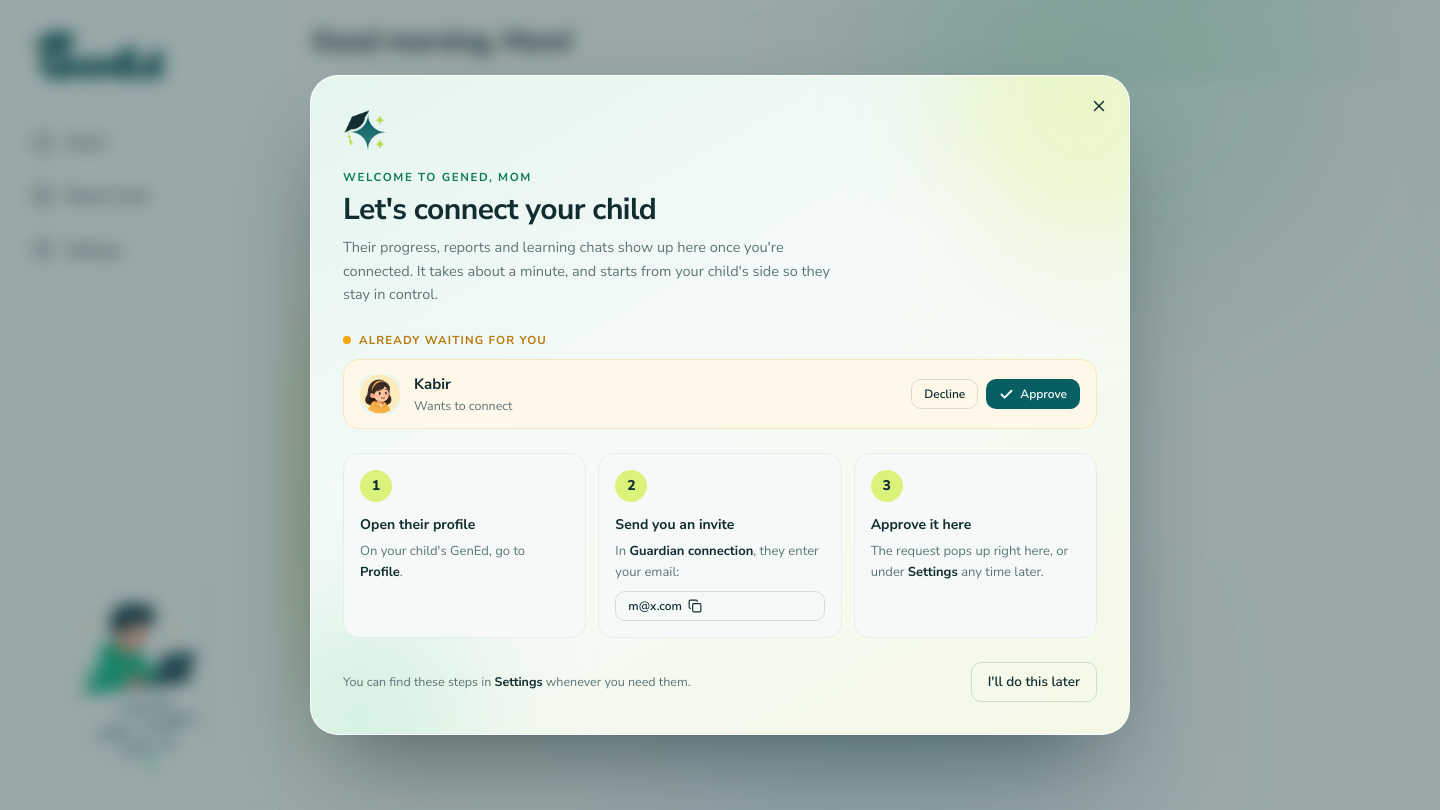
Test: ParentHome — first run with no child connected › lets the parent approve a waiting request right in the popup
The width and height of the screenshot is (1440, 810).
Click the button with aria-label "Approve Kabir": (1033, 394) [986,379,1080,409]
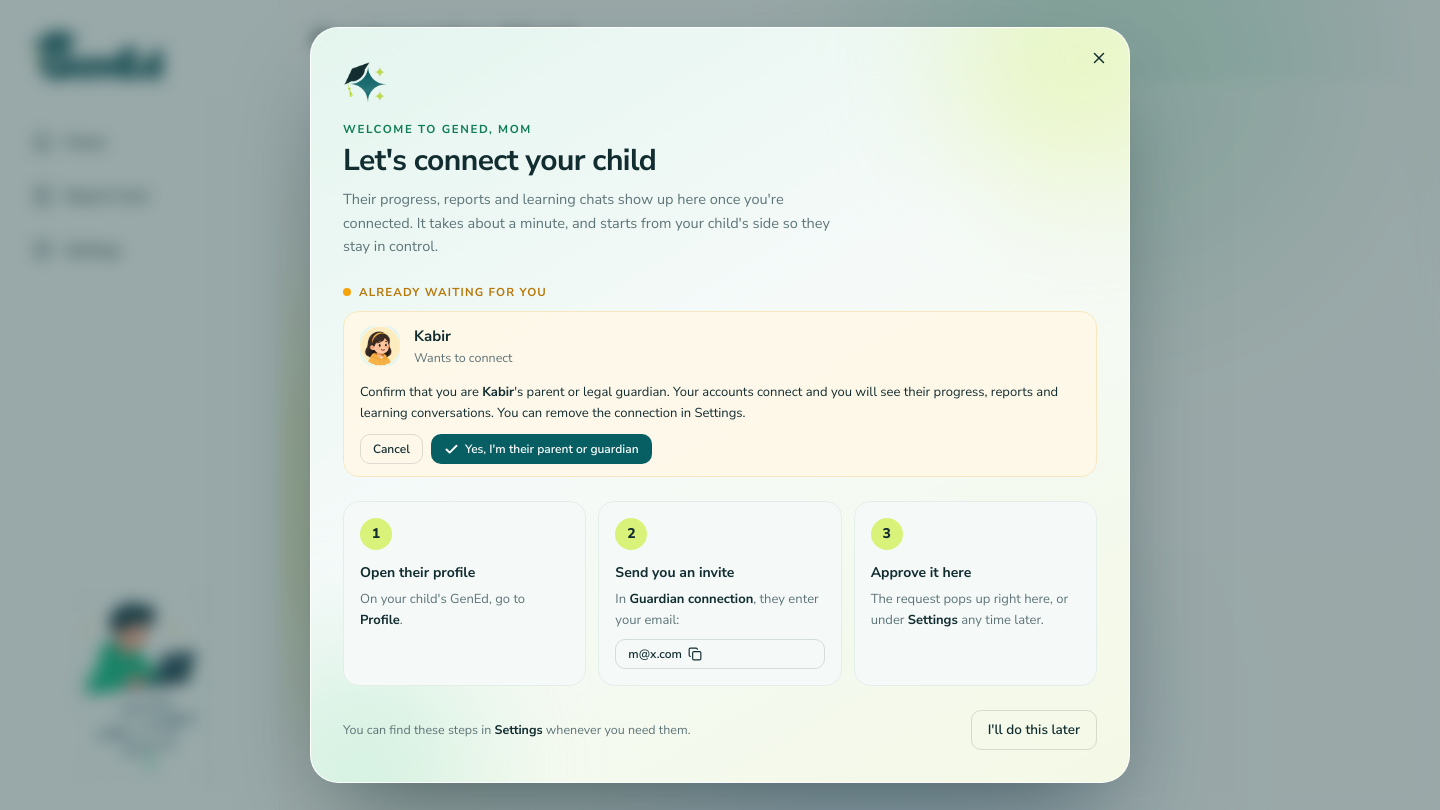
Click the button "Yes, I'm their parent or guardian": (541, 449) [431,434,652,464]
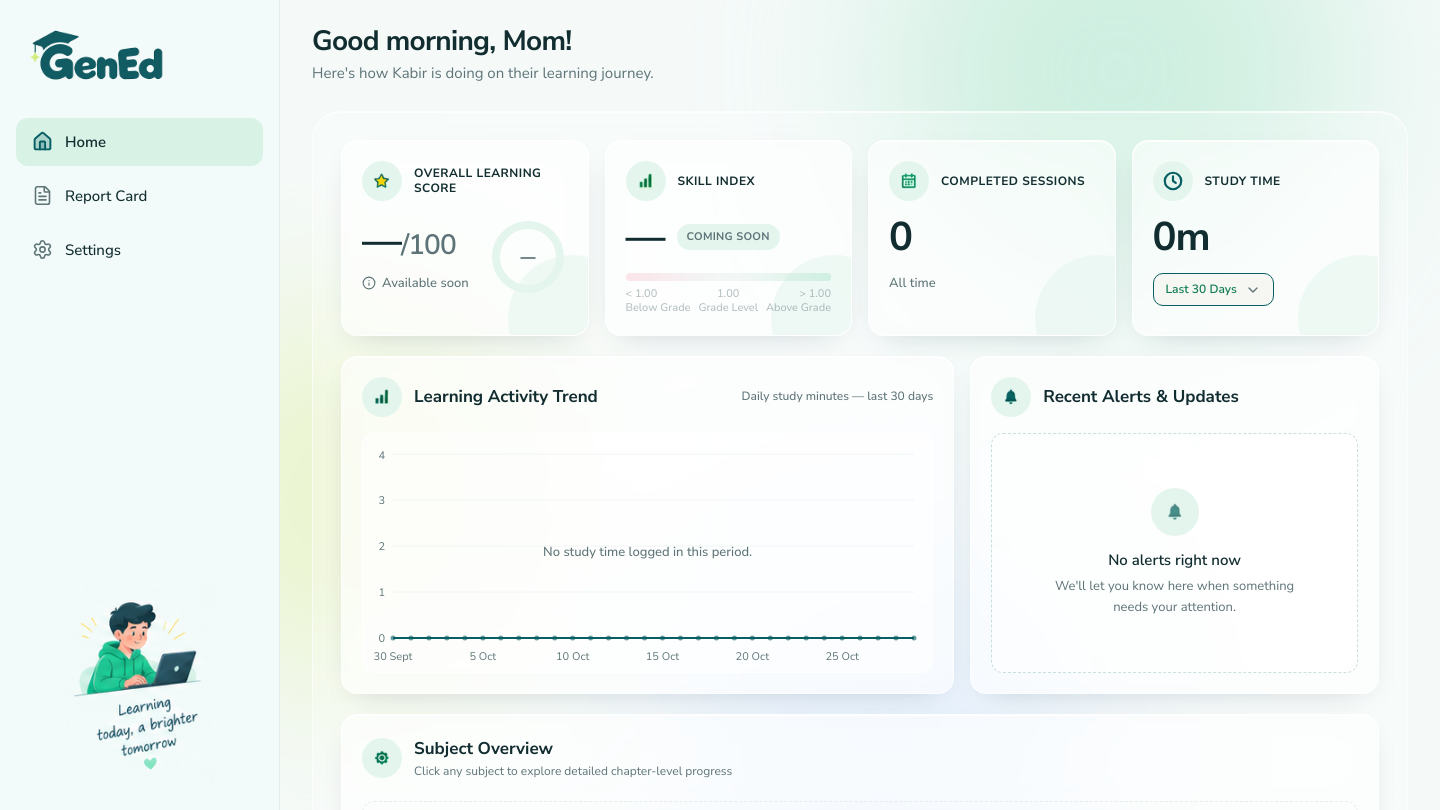
Expected: the dialog is gone
